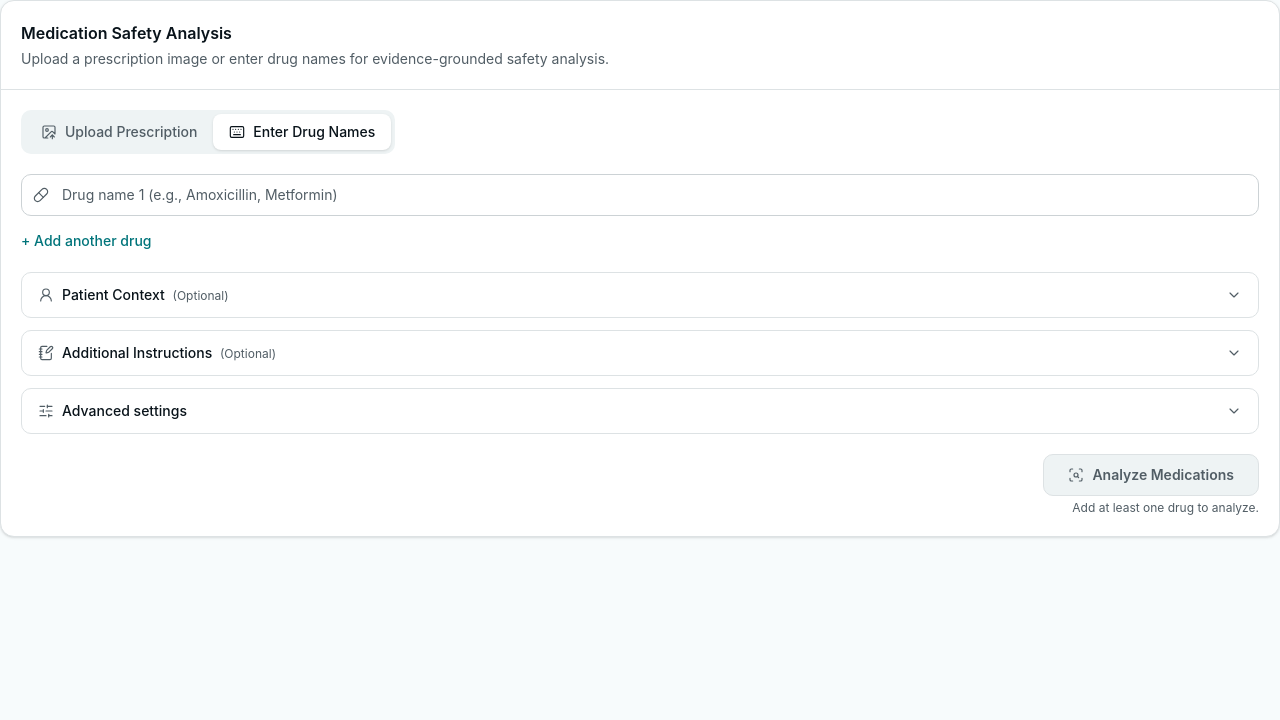
Test: WorkspacePage Analyze button states › is disabled with a hint until a drug is entered
This screenshot has width=1280, height=720.
Check: the button "Analyze Medications" is disabled, box [1043,454,1259,496]
Type "Metformin" into the field labelled "Drug name 1" at (640, 195), box [21,174,1259,216]
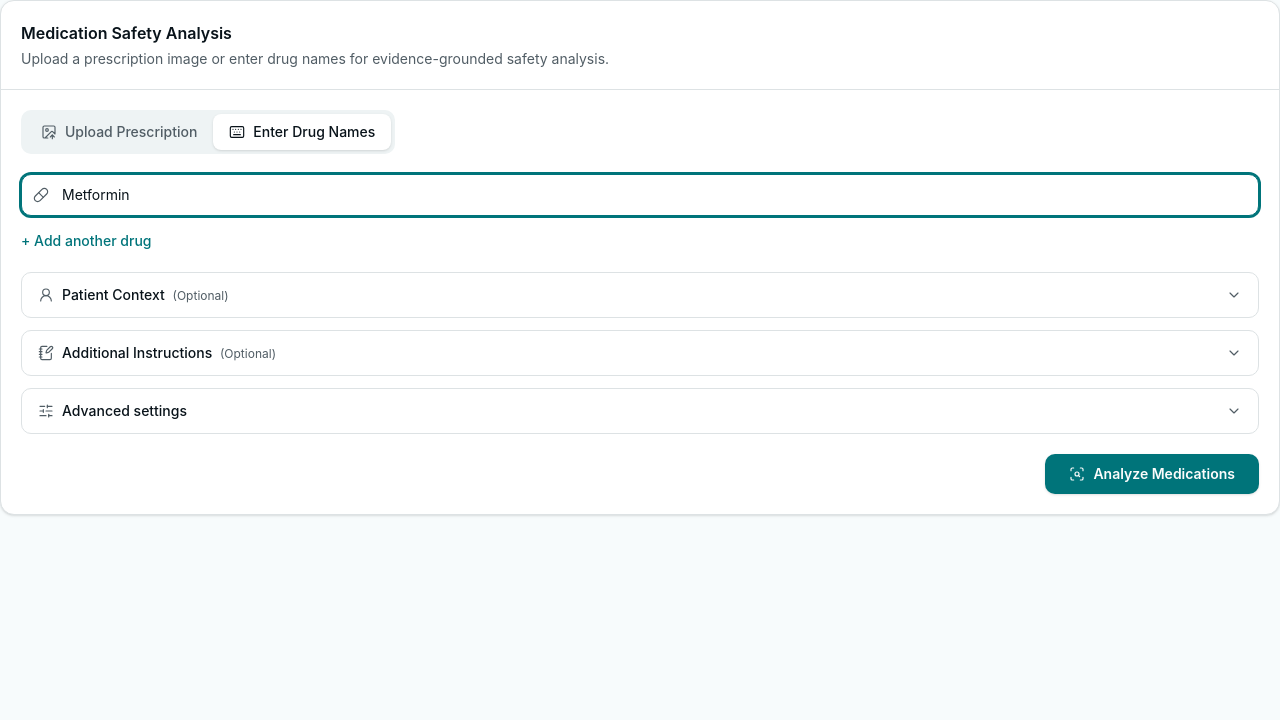
Check: the button "Analyze Medications" is enabled, box [1045,454,1259,494]
Check: the text "Add at least one drug to analyze." is gone
